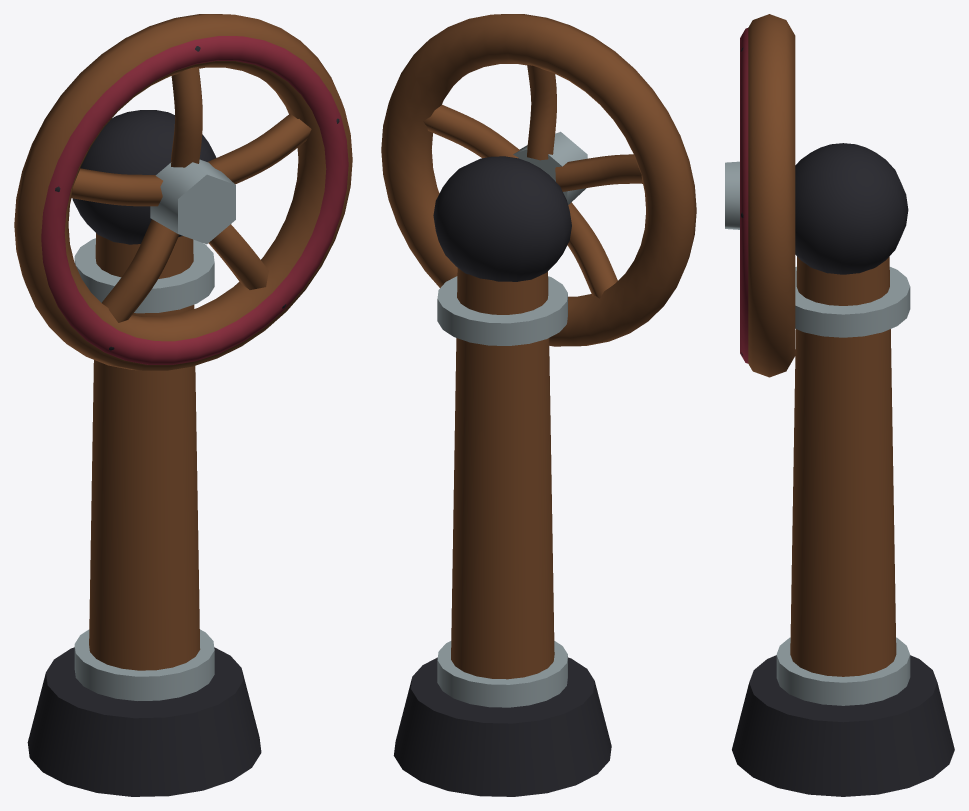
File: mia-valve.glb
3 views of the same model, side by side, from view 1: azimuth 30°, elevation 25°; view 2: azimuth 150°, elevation 25°; view 3: azimuth 270°, elevation 25° (orthographic). The views are drawn at different scales.
Visible parts, largest first — view 1: Body_rust, Body_iron, Body_velvet, Body_steel; view 2: Body_rust, Body_iron, Body_steel; view 3: Body_rust, Body_iron, Body_steel, Body_velvet.
Boxes of the visible parts, bbox=[...] form: Body_rust: bbox=[14, 14, 352, 670]; Body_iron: bbox=[27, 46, 339, 796]; Body_velvet: bbox=[41, 36, 348, 364]; Body_steel: bbox=[74, 159, 235, 700]; Body_rust: bbox=[381, 14, 696, 679]; Body_iron: bbox=[393, 156, 611, 796]; Body_steel: bbox=[437, 131, 587, 707]; Body_rust: bbox=[748, 14, 896, 676]; Body_iron: bbox=[732, 47, 954, 796]; Body_steel: bbox=[725, 161, 910, 705]; Body_velvet: bbox=[740, 28, 748, 363].
Bounding box in the file's own units: 0.626 × 1.37 × 0.3955.
